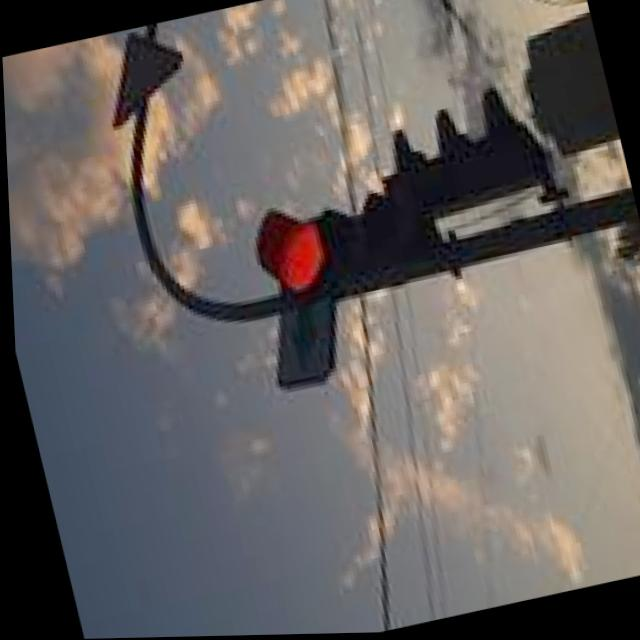red_light: (224, 196, 328, 323)
